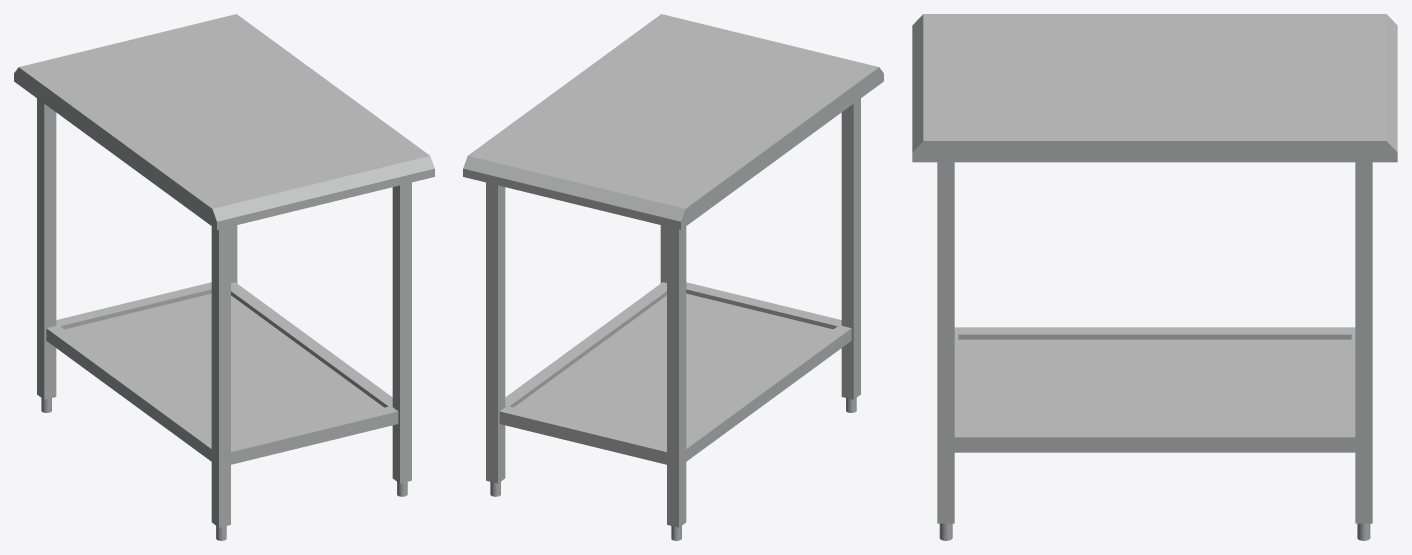
The model's file is Prop_Frying_Table.fbx.
3 renders of one model, left to right at view 1: azimuth 30°, elevation 25°; view 2: azimuth 150°, elevation 25°; view 3: azimuth 270°, elevation 25°, orthographic. The views are drawn at different scales.
Visible parts, largest first — view 1: Prop_Frying_Table; view 2: Prop_Frying_Table; view 3: Prop_Frying_Table.
Boxes of the visible parts, left/top/right/bottom form: Prop_Frying_Table: left=14, top=14, right=434, bottom=540; Prop_Frying_Table: left=463, top=14, right=883, bottom=540; Prop_Frying_Table: left=912, top=14, right=1397, bottom=540.
Size of the model in its own units: 26.63 by 39.86 by 42.95.
